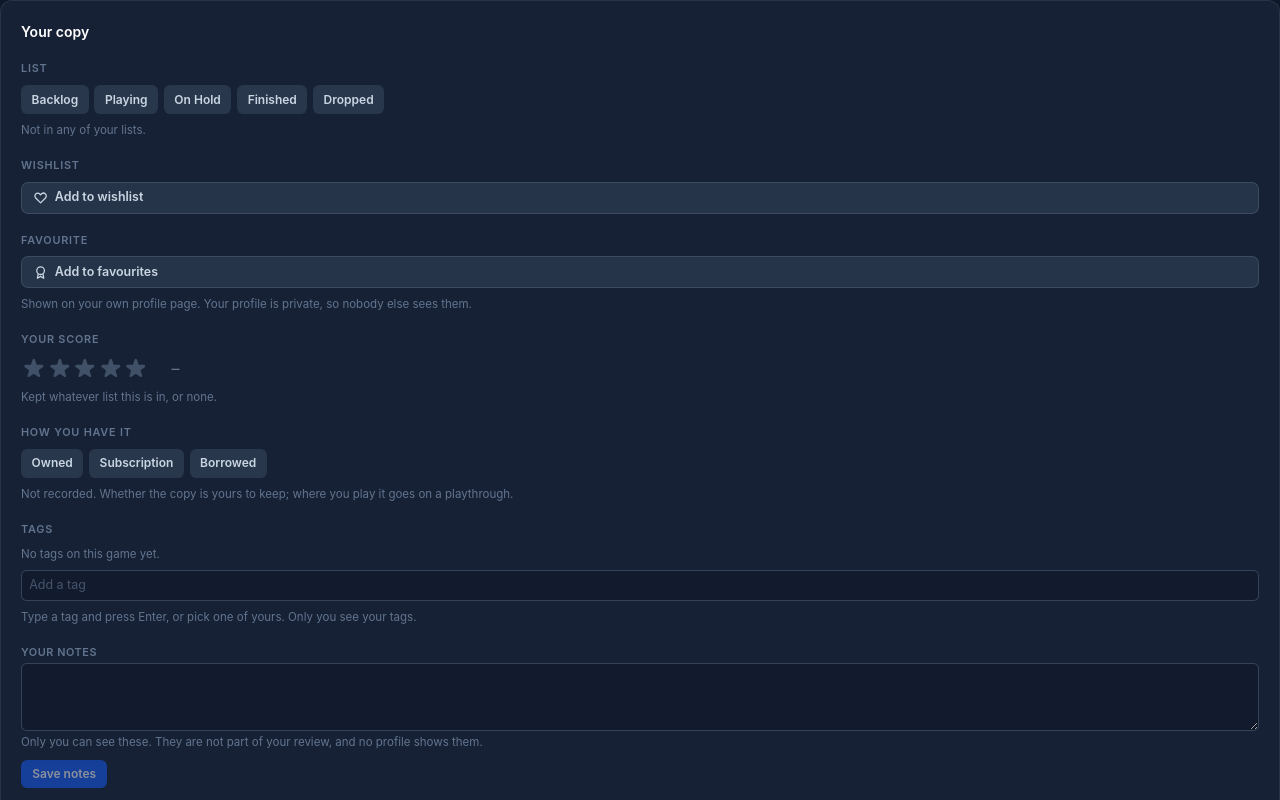
Test: GameUserPanel and the write guard › marks the wishlist and the favourite toggles, on and off
Expected: the element named "Your score for Celeste" is enabled, [21,356,179,381]
Expected: the button "Add to favourites" is enabled, [21,256,1259,288]
Click the button "Add to wishlist": (99, 197) [21,182,1259,214]
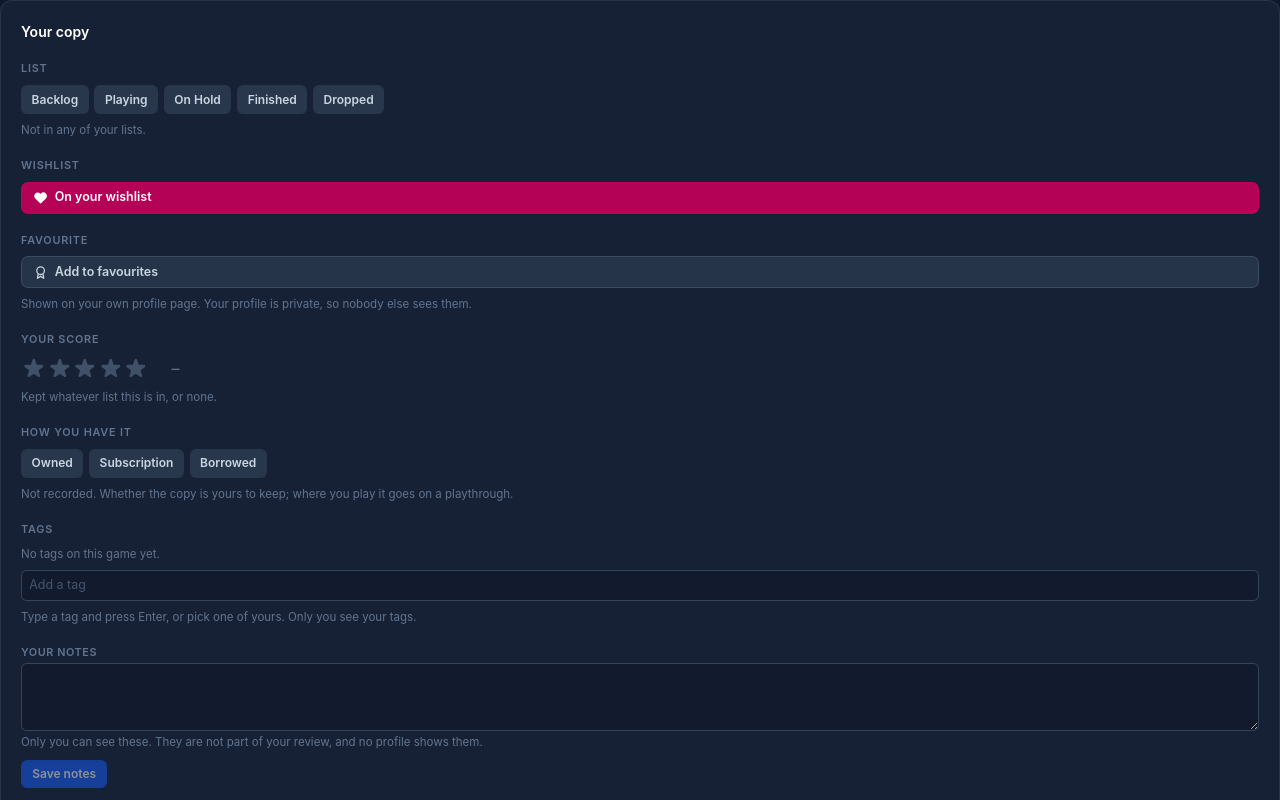
Click the button "On your wishlist": (103, 197) [21,182,1259,214]
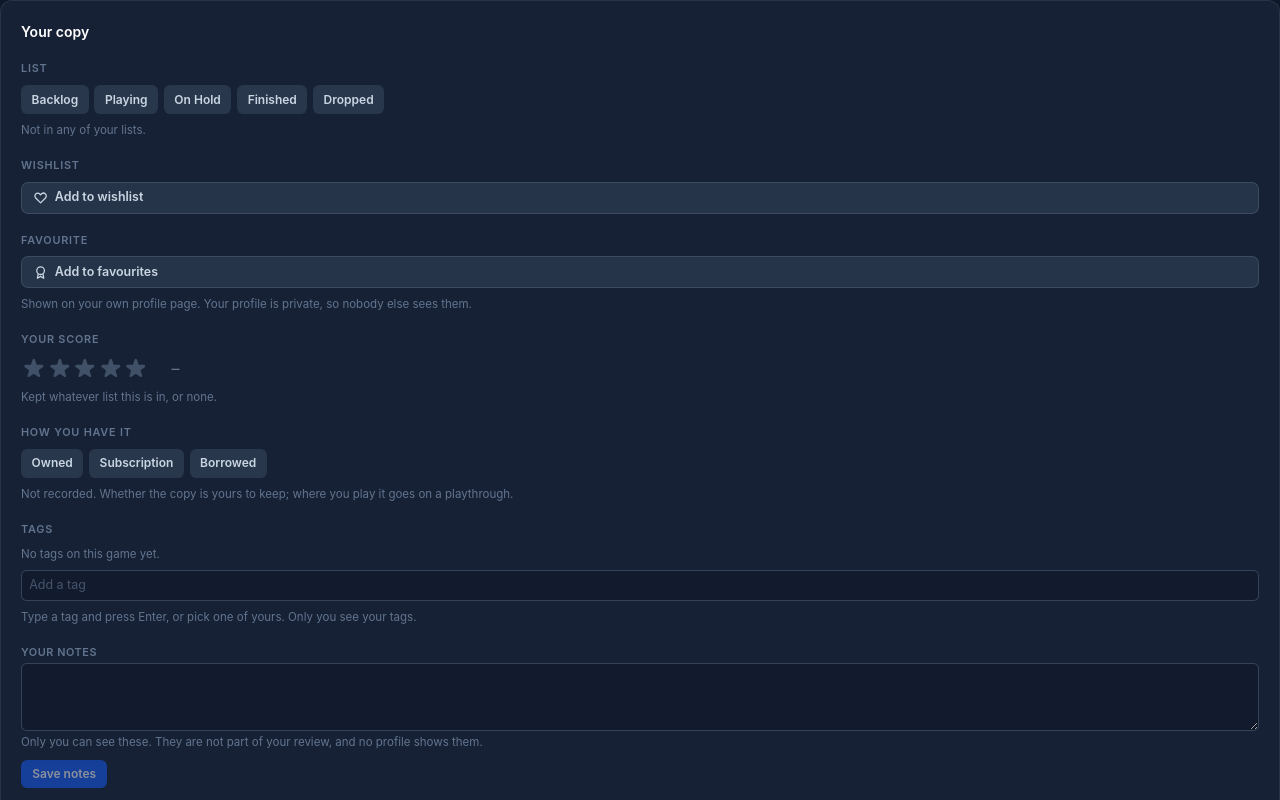
Now the button "Add to wishlist" is shown, box [21,182,1259,214]
Click the button "Add to favourites": (106, 271) [21,256,1259,288]
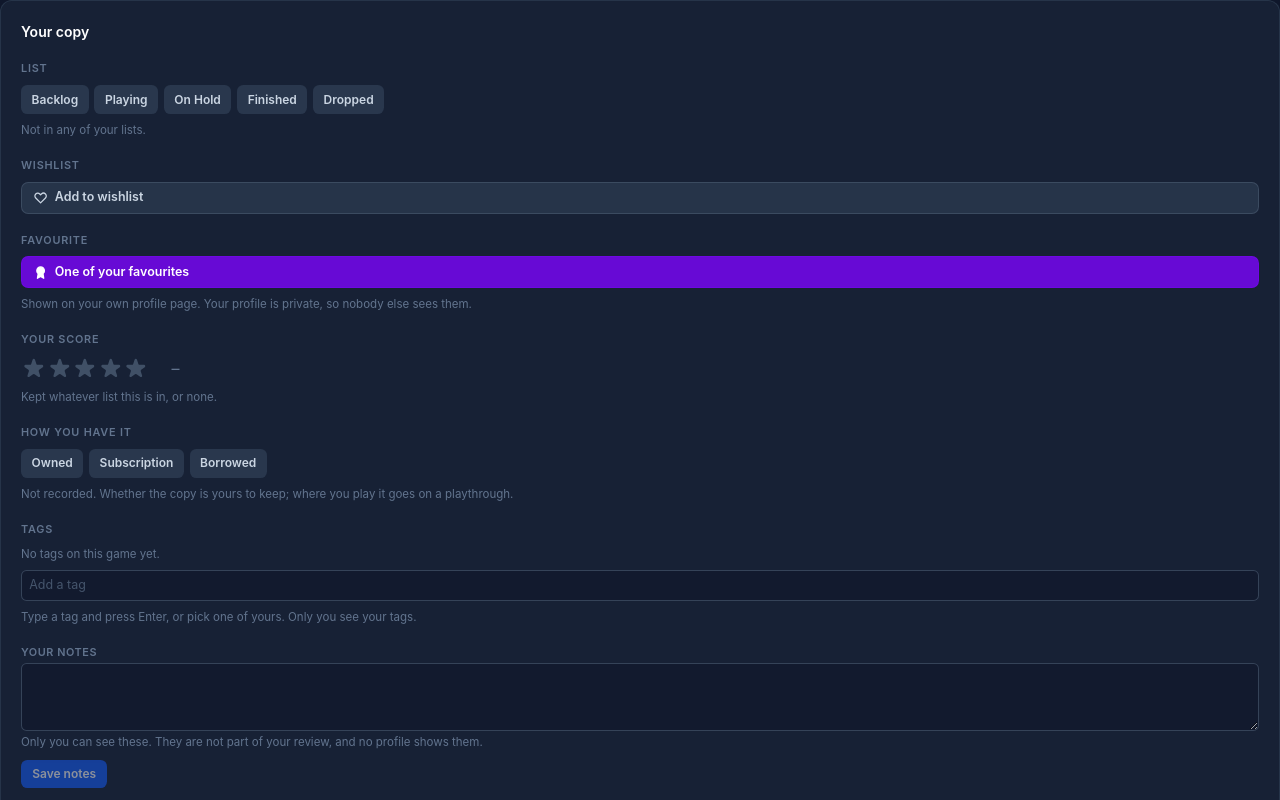
Click the button "One of your favourites": (122, 271) [21,256,1259,288]
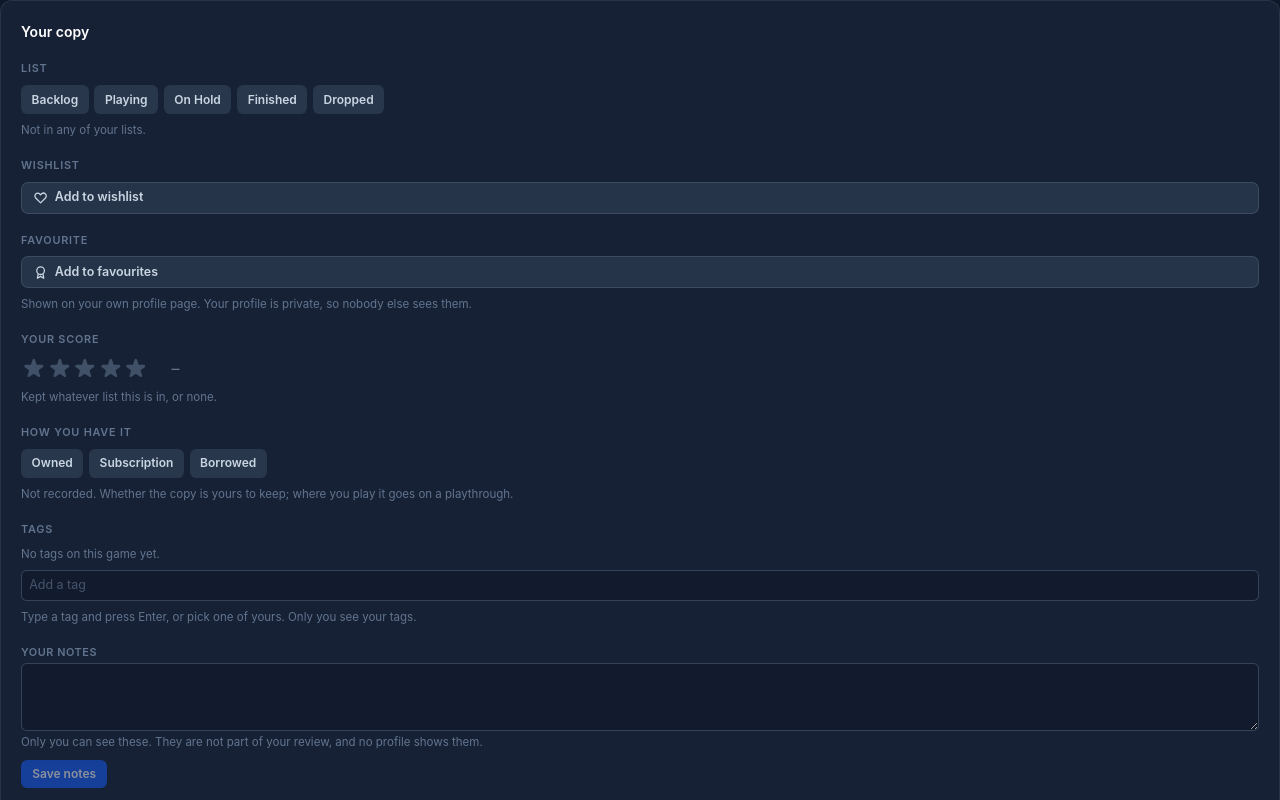
Now the button "Add to favourites" is shown, box [21,256,1259,288]
